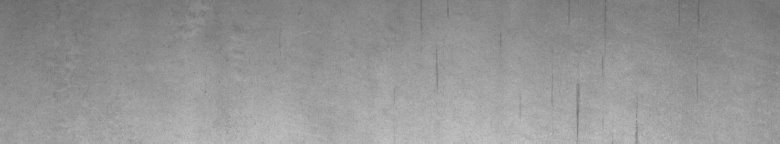ka: (573, 84, 638, 136)
